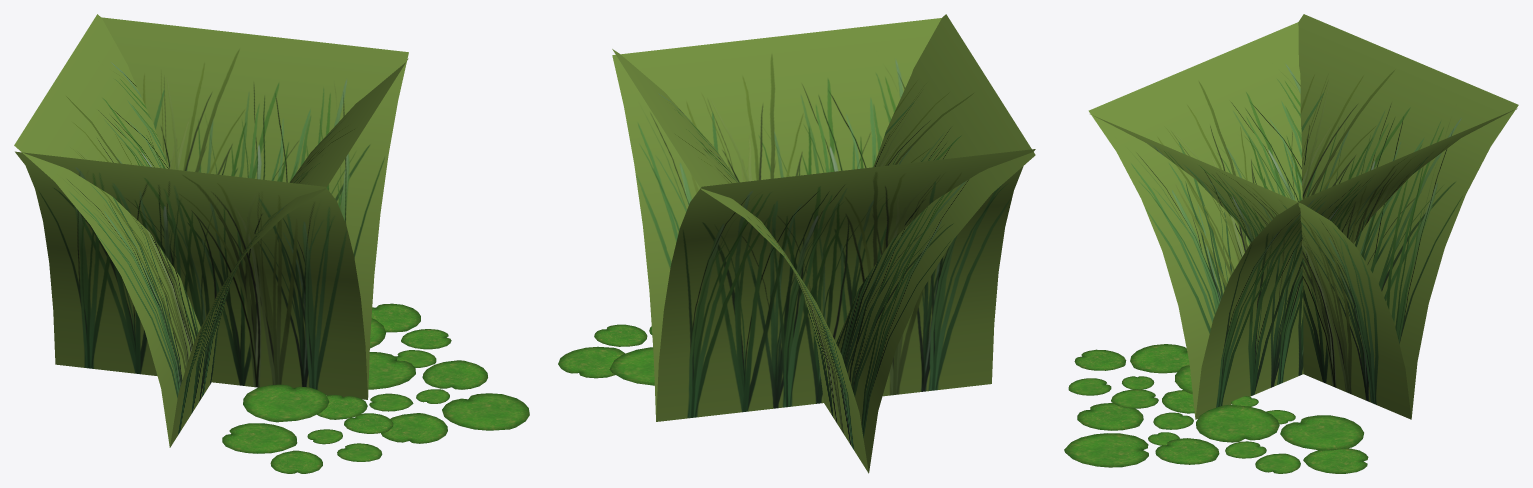
The model's file is sb_obj_nature009_Aqplant01c.fbx.
3 views of the same model, side by side, from view 1: azimuth 30°, elevation 25°; view 2: azimuth 150°, elevation 25°; view 3: azimuth 270°, elevation 25° (orthographic). The views are drawn at different scales.
Parts seen in each view (by area): view 1: sb_obj_nature009_Aqplant01c; view 2: sb_obj_nature009_Aqplant01c; view 3: sb_obj_nature009_Aqplant01c.
Boxes of the visible parts, left/top/right/bottom form: sb_obj_nature009_Aqplant01c: left=14, top=14, right=529, bottom=473; sb_obj_nature009_Aqplant01c: left=558, top=14, right=1035, bottom=473; sb_obj_nature009_Aqplant01c: left=1064, top=14, right=1518, bottom=473.
Bounding box in the file's own units: 1.27 × 0.8198 × 1.26.
2 materials, 2 textured.
